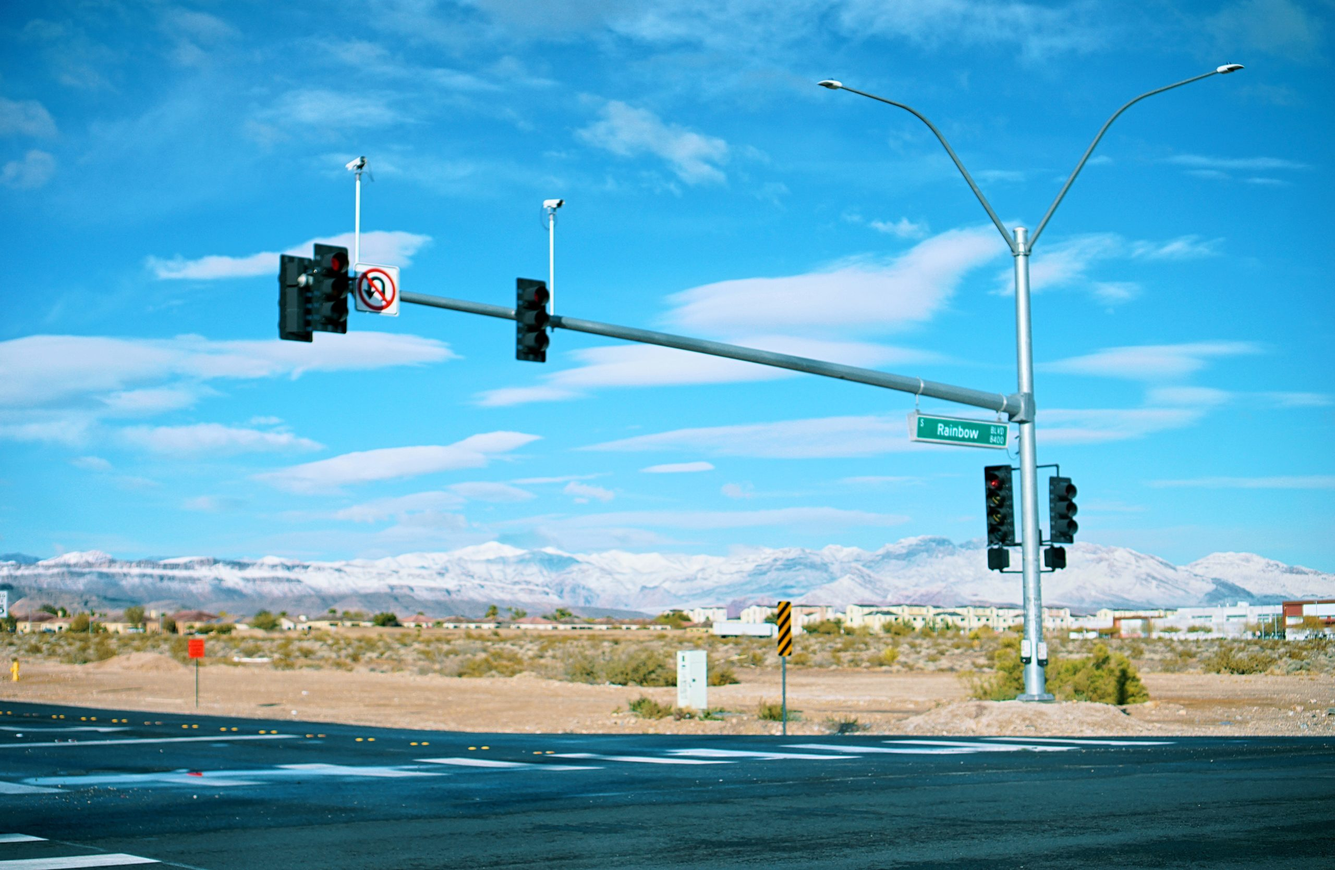TraficLight: (286, 242, 356, 358), (506, 272, 566, 370), (973, 462, 1032, 561), (1034, 470, 1087, 578)
